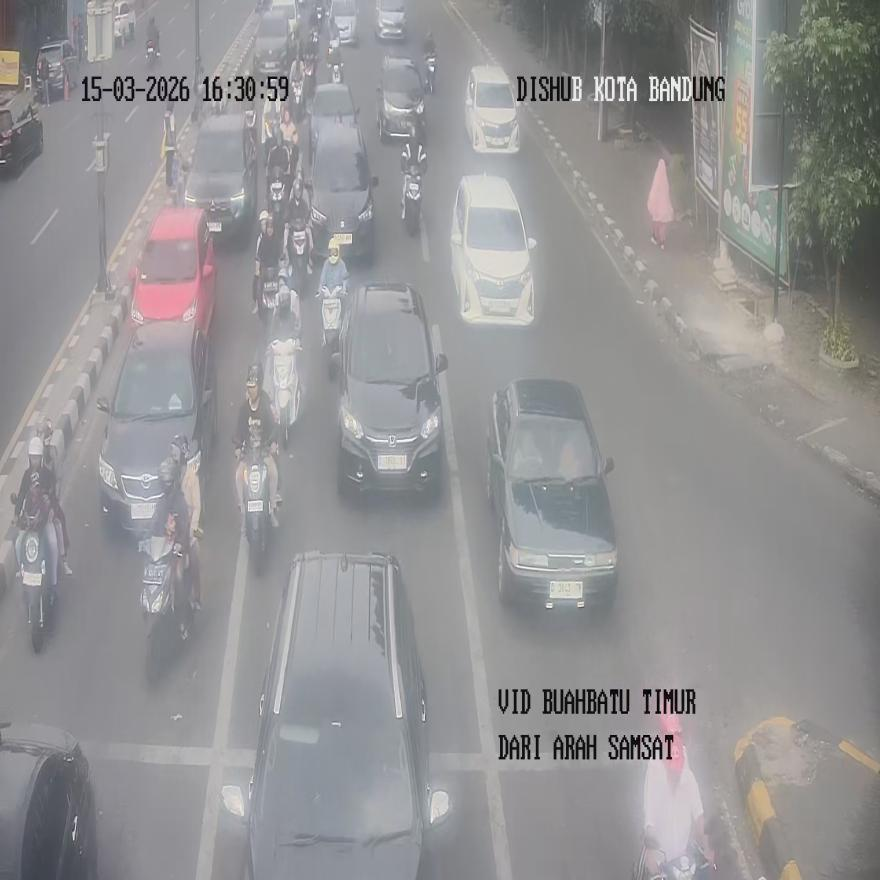Mobil: (220, 552, 450, 877), (486, 378, 618, 611), (96, 318, 215, 537), (329, 280, 448, 495), (0, 723, 98, 879), (450, 173, 537, 326), (128, 206, 216, 340), (310, 122, 378, 264), (183, 112, 257, 242), (465, 65, 521, 154), (376, 53, 425, 141), (0, 92, 43, 174)
Motor: (14, 497, 58, 652), (138, 534, 180, 684), (238, 443, 276, 574), (632, 837, 715, 880), (271, 339, 300, 446), (254, 260, 286, 327), (319, 283, 344, 357), (286, 219, 311, 284), (402, 167, 422, 233), (268, 178, 284, 231), (424, 52, 436, 93), (146, 37, 160, 70)
